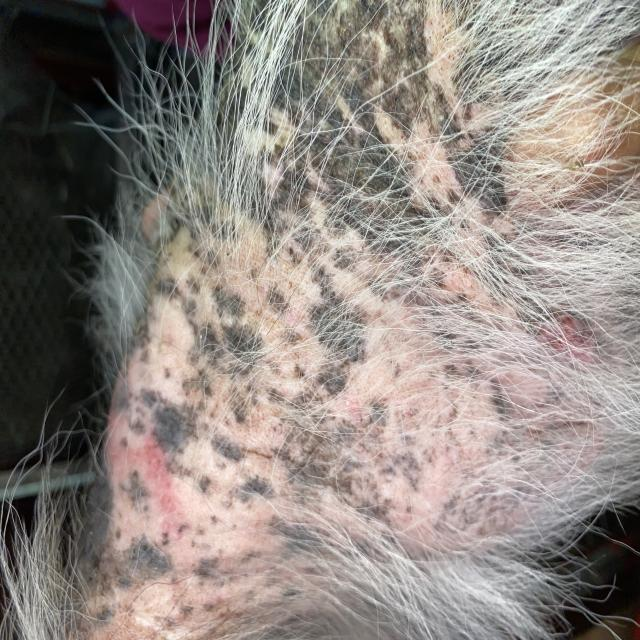demodicosis: (103, 291, 281, 629), (323, 294, 544, 540), (313, 12, 447, 183), (507, 87, 635, 199)
